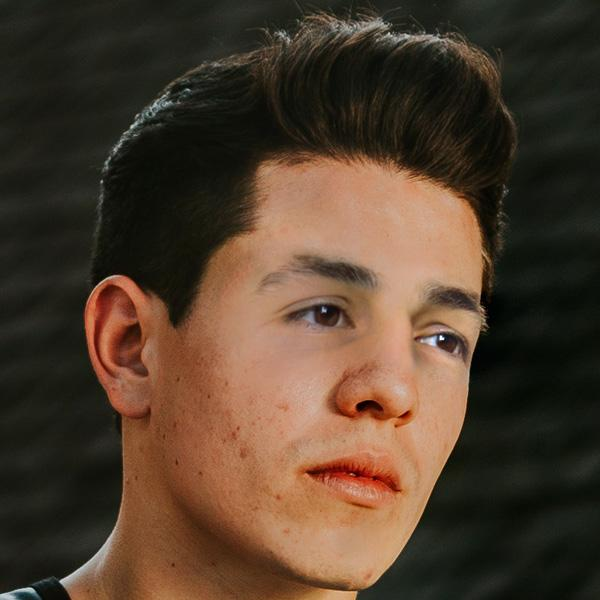Eyes: (273, 280, 362, 348), (407, 310, 476, 366)
